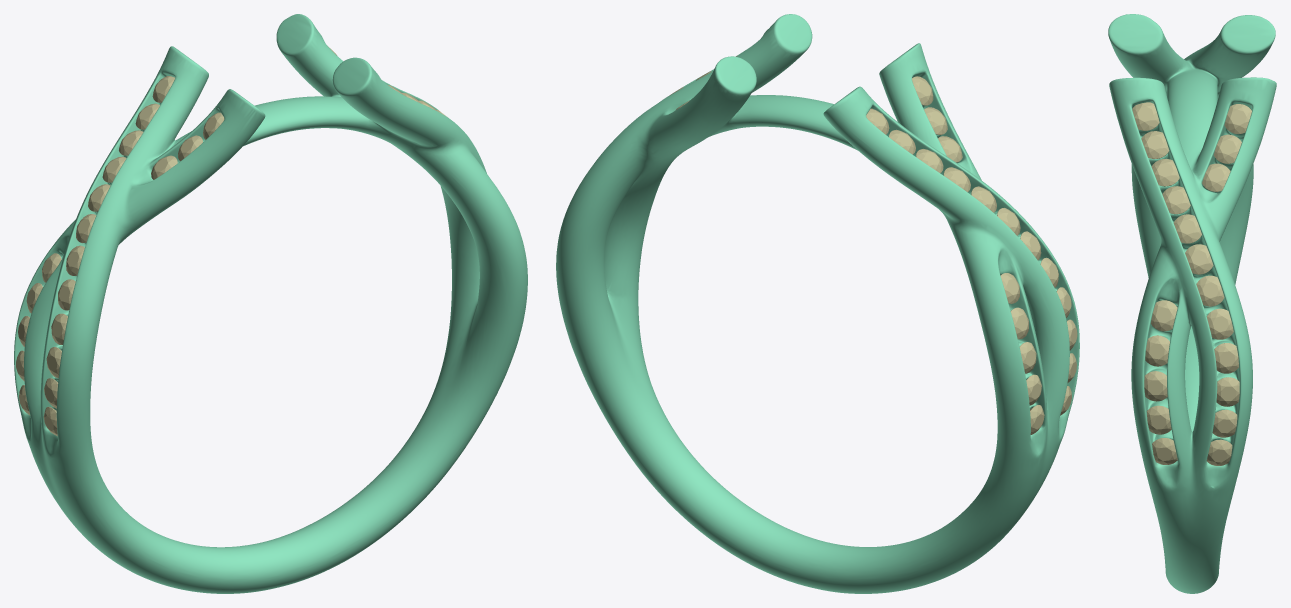
The picture shows the model from 3 angles, left to right: view 1: azimuth 30°, elevation 25°; view 2: azimuth 150°, elevation 25°; view 3: azimuth 270°, elevation 25°; orthographic projection.
Parts seen in each view (by area): view 1: Metal02; view 2: Metal02; view 3: Metal02, Diamond_Gem.004, Diamond_Gem.005, Diamond_Gem.017, Diamond_Gem.016, Diamond_Gem.006, Diamond_Gem.003, Diamond_Gem.018, Diamond_Gem.014, Diamond_Gem.002, Diamond_Gem.007, Diamond_Gem.013 (+9 smaller).
Part boxes in pixels (left/top/right/bottom): Metal02: left=14, top=14, right=527, bottom=593; Metal02: left=556, top=14, right=1079, bottom=593; Metal02: left=1108, top=14, right=1276, bottom=593; Diamond_Gem.004: left=1206, top=308, right=1233, bottom=339; Diamond_Gem.005: left=1196, top=275, right=1224, bottom=306; Diamond_Gem.017: left=1145, top=335, right=1169, bottom=366; Diamond_Gem.016: left=1151, top=300, right=1177, bottom=331; Diamond_Gem.006: left=1185, top=244, right=1213, bottom=274; Diamond_Gem.003: left=1214, top=343, right=1238, bottom=373; Diamond_Gem.018: left=1144, top=371, right=1167, bottom=401; Diamond_Gem.014: left=1224, top=104, right=1251, bottom=133; Diamond_Gem.002: left=1216, top=377, right=1239, bottom=406; Diamond_Gem.007: left=1173, top=214, right=1201, bottom=243; Diamond_Gem.013: left=1214, top=134, right=1241, bottom=163.
Size of the model in its own units: 21.03 by 22.25 by 6.5.
